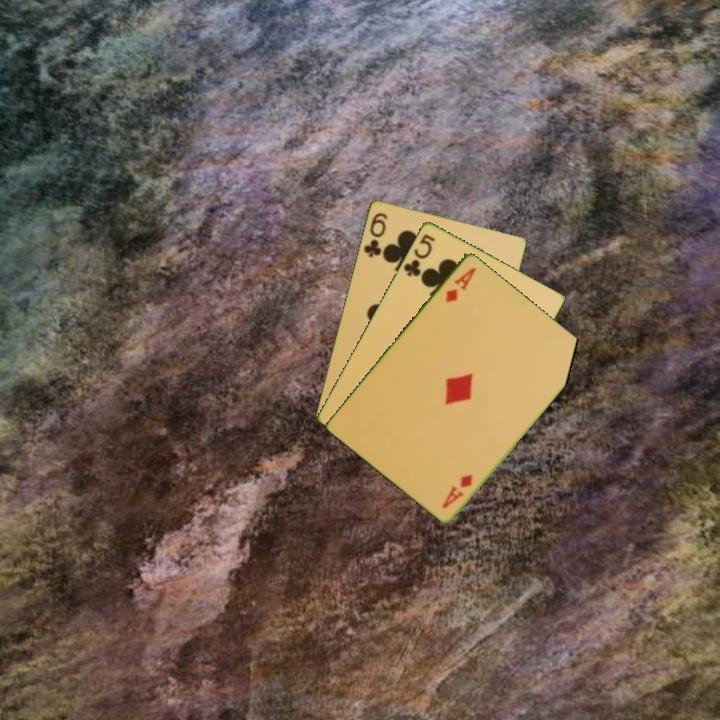5c: (400, 230, 438, 279)
6c: (360, 209, 390, 260)
Ad: (442, 263, 479, 305), (439, 470, 475, 511)
